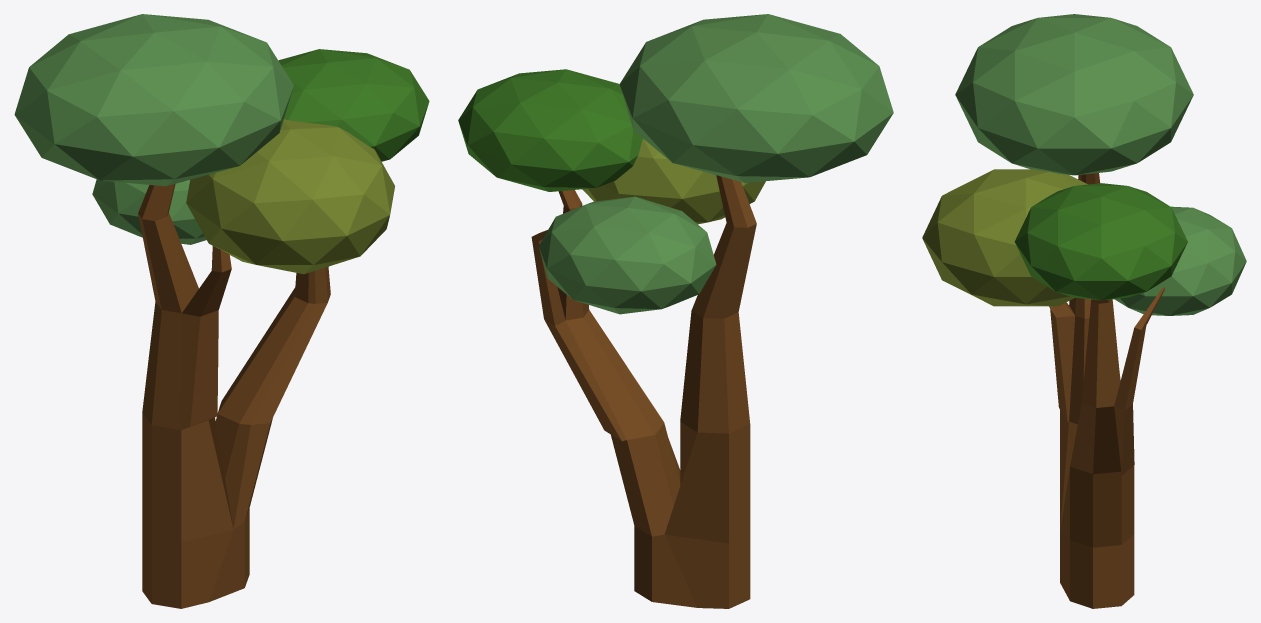
File: Tree2lush.fbx
3 views of the same model, side by side, from view 1: azimuth 30°, elevation 25°; view 2: azimuth 150°, elevation 25°; view 3: azimuth 270°, elevation 25° (orthographic). The views are drawn at different scales.
Parts seen in each view (by area): view 1: Cylinder.006; view 2: Cylinder.006; view 3: Cylinder.006.
Boxes of the visible parts, left/top/right/bottom form: Cylinder.006: left=14, top=14, right=429, bottom=608; Cylinder.006: left=458, top=14, right=893, bottom=608; Cylinder.006: left=922, top=14, right=1246, bottom=608.
Size of the model in its own units: 1242 by 1728 by 961.
